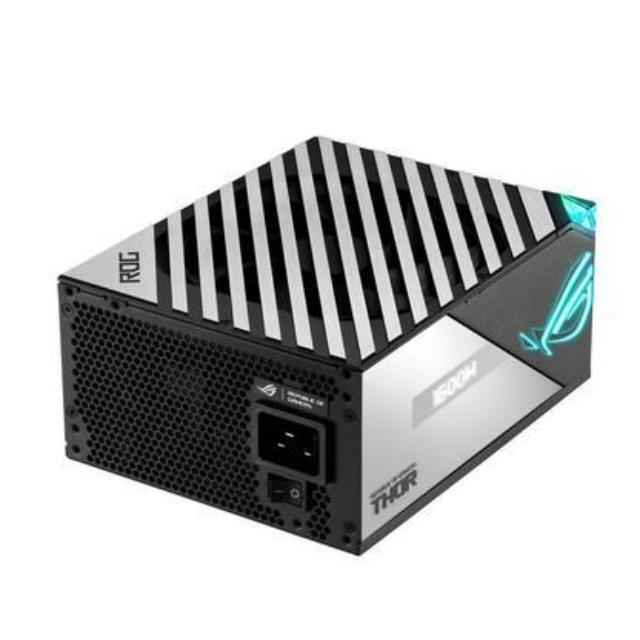PSU: (33, 120, 618, 557)
